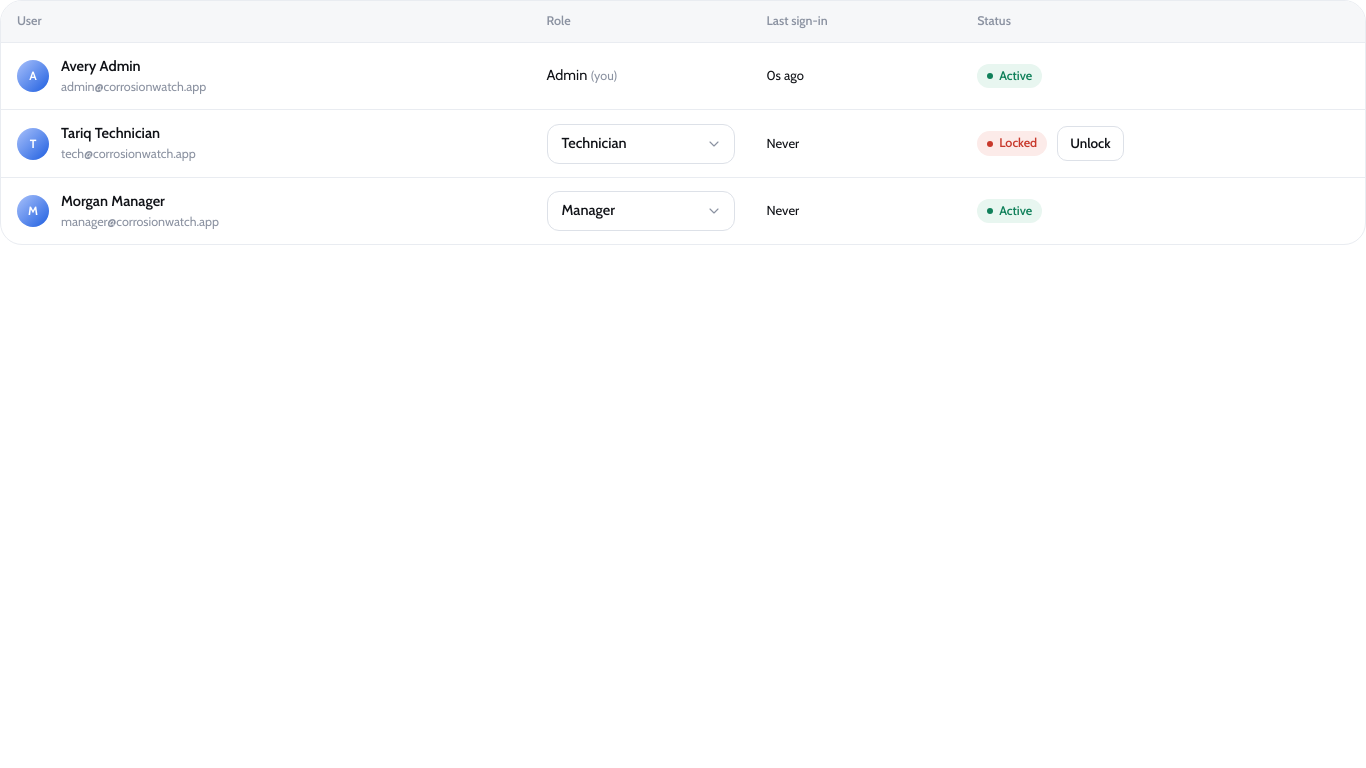
Scenario: Admin > Users › unlocks a locked user and shows a toast
This screenshot has width=1366, height=768.
Check: the text "Tariq Technician" is shown, box [61,124,160,142]
Click the button "Unlock": click(1090, 144) [1057,126,1124,161]
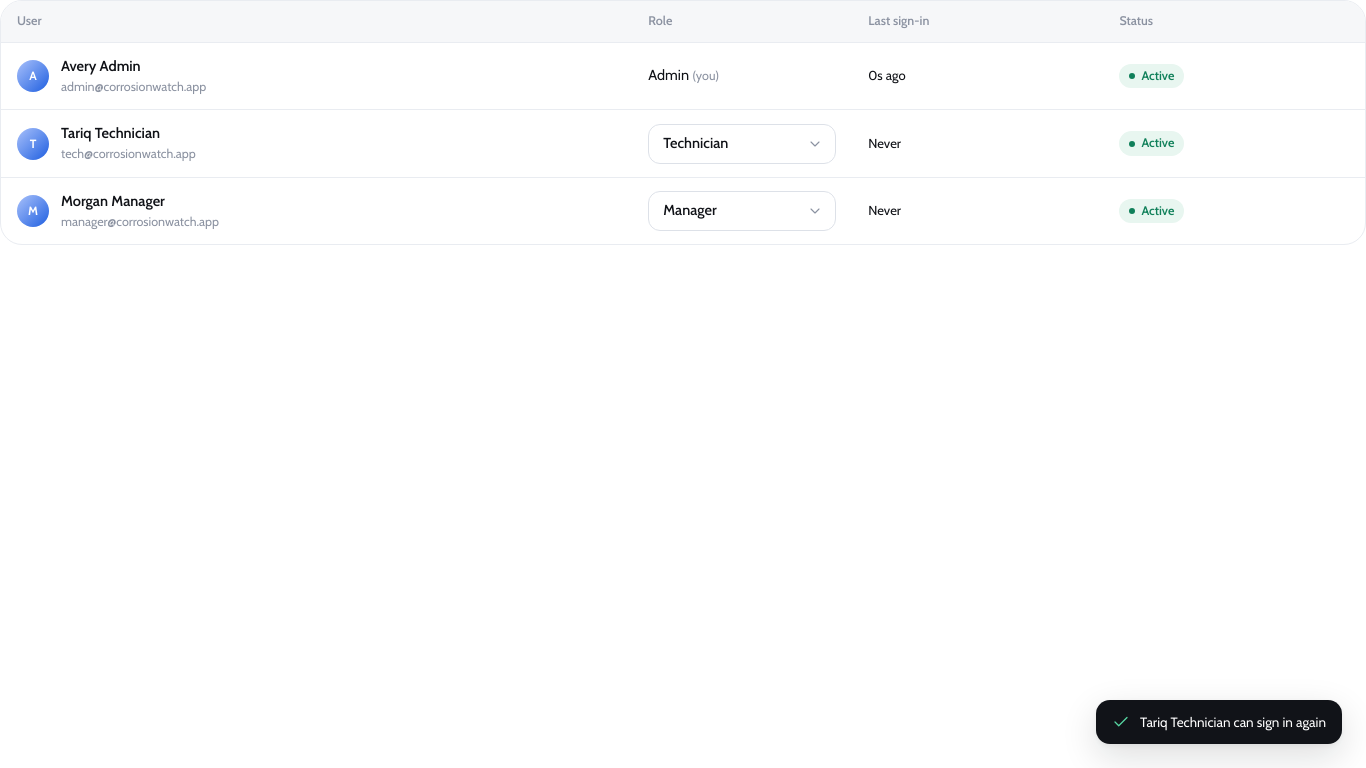
Check: the text "Tariq Technician can sign in again" is shown, box [1140,712,1326,732]
Check: the text "Active" in the row of "tech@corrosionwatch.app" is shown, box [1141,135,1174,150]
